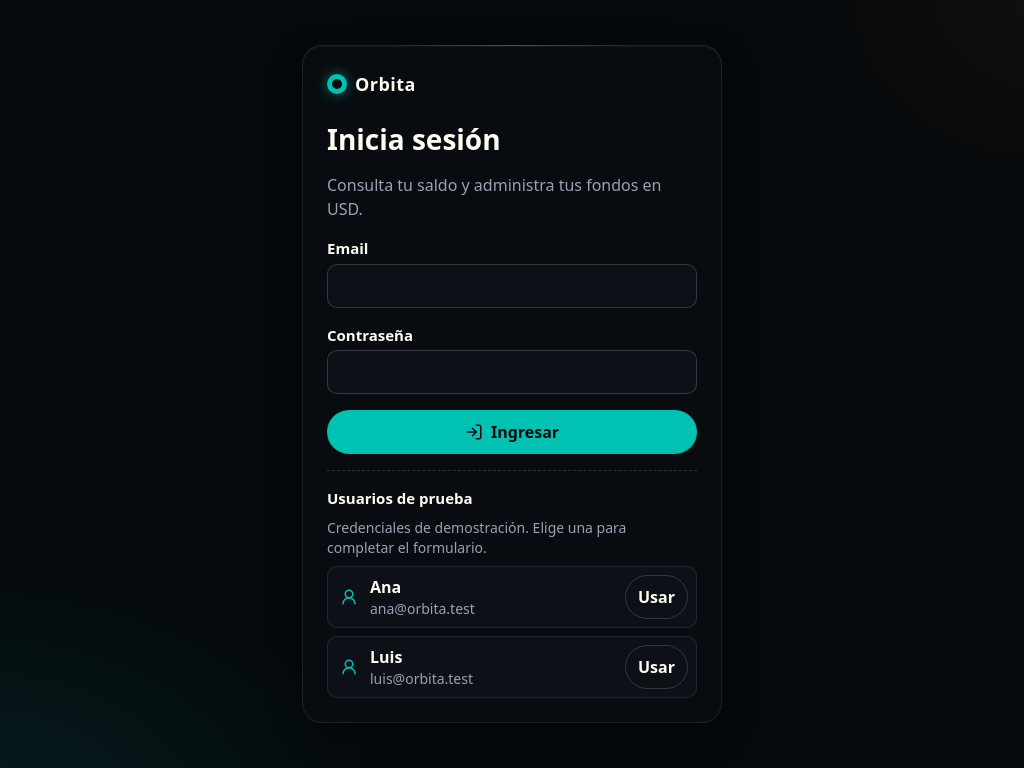
Test: login › shows an understandable message for invalid credentials, not an HTTP code
Type "ana@orbita.test" into the field labelled "Email". click: (512, 286)
box: [327, 264, 697, 308]
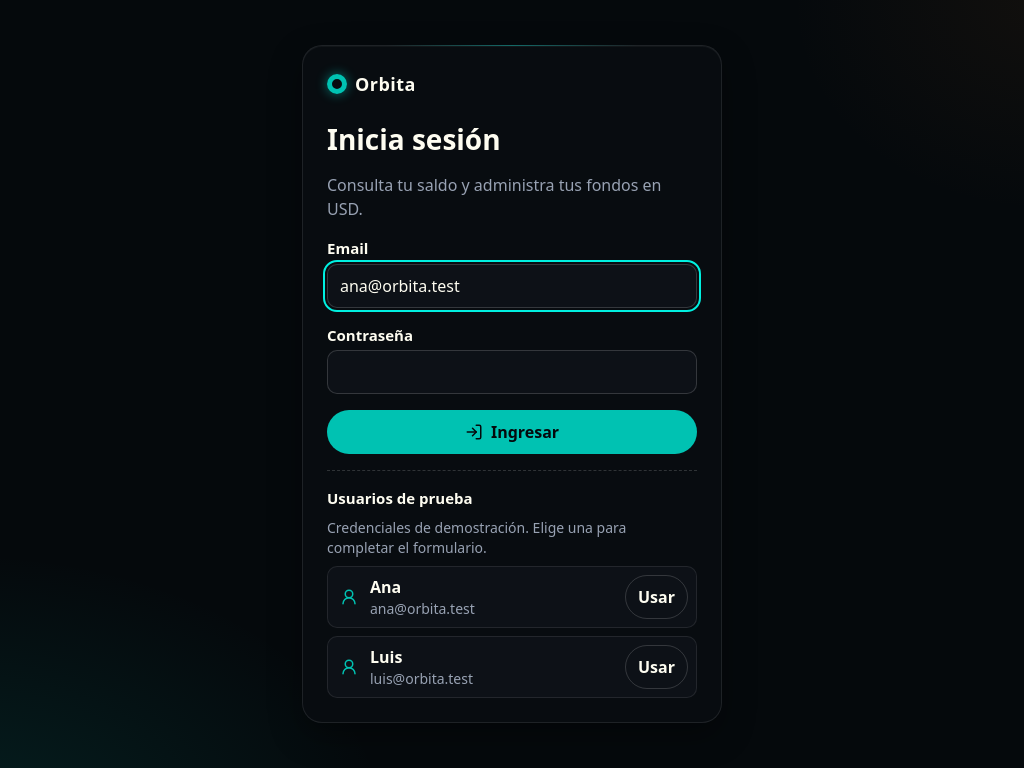
Type "wrong" into the password field labelled "Contraseña". click: (512, 372)
box: [327, 350, 697, 394]
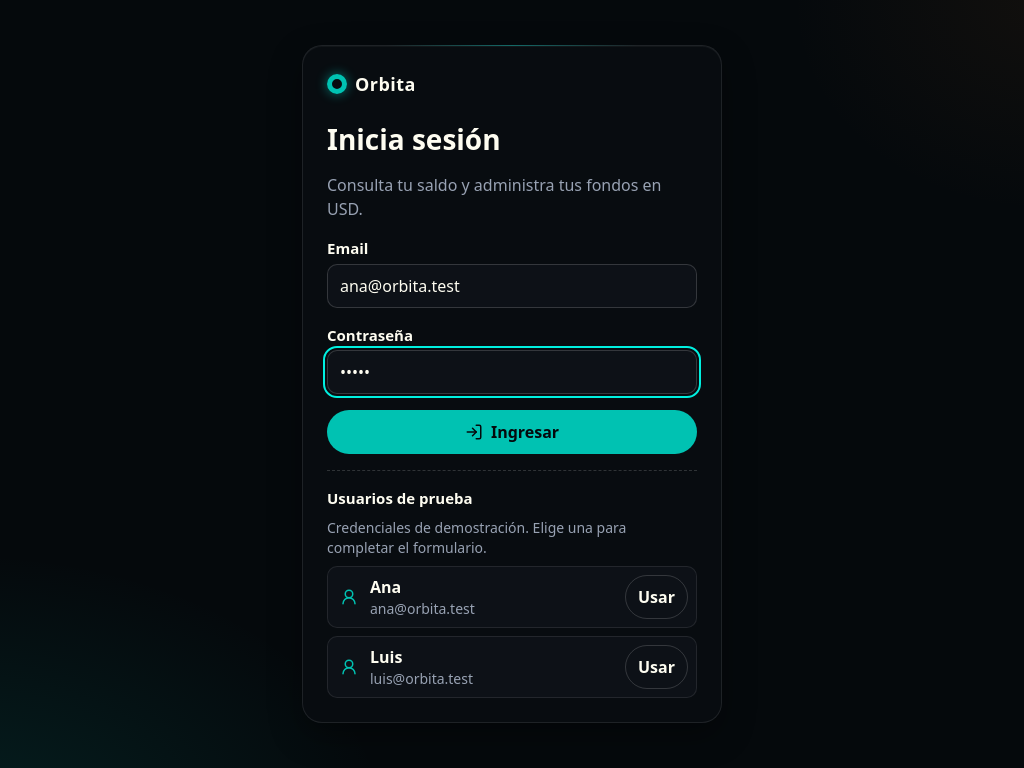
Click the button "Ingresar". click: (512, 432)
box: [327, 410, 697, 454]
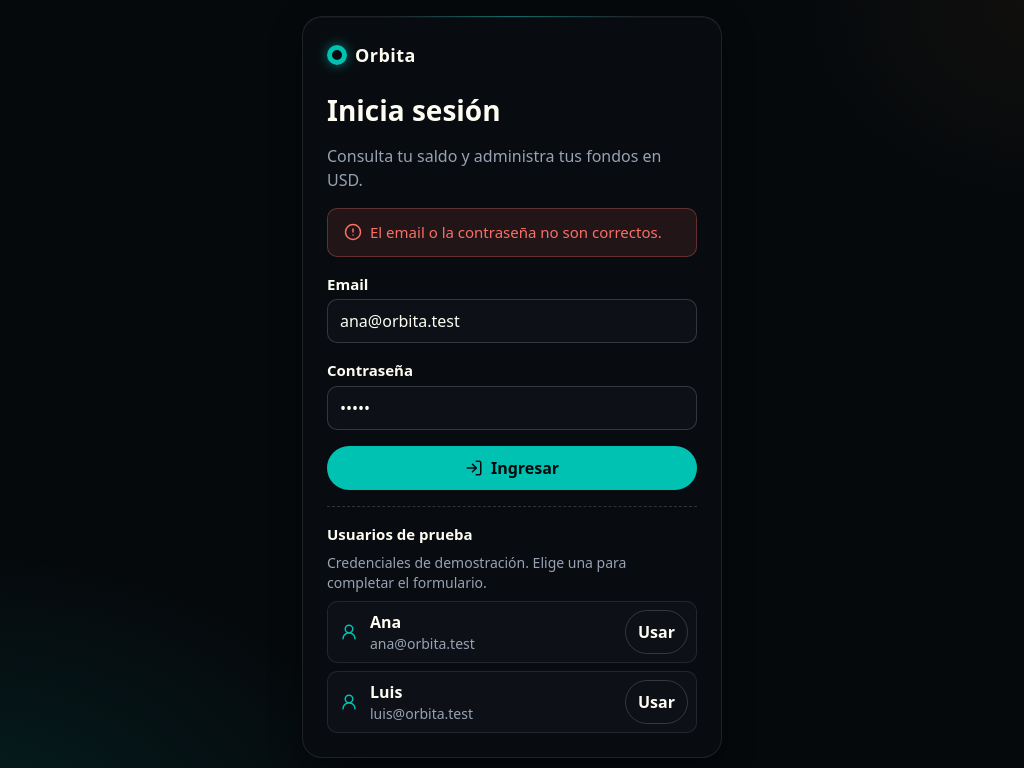
Expected: the button "Ingresar" is enabled, [327, 446, 697, 490]
Expected: the message reads "El email o la contraseña no son correctos.", [370, 222, 662, 242]
